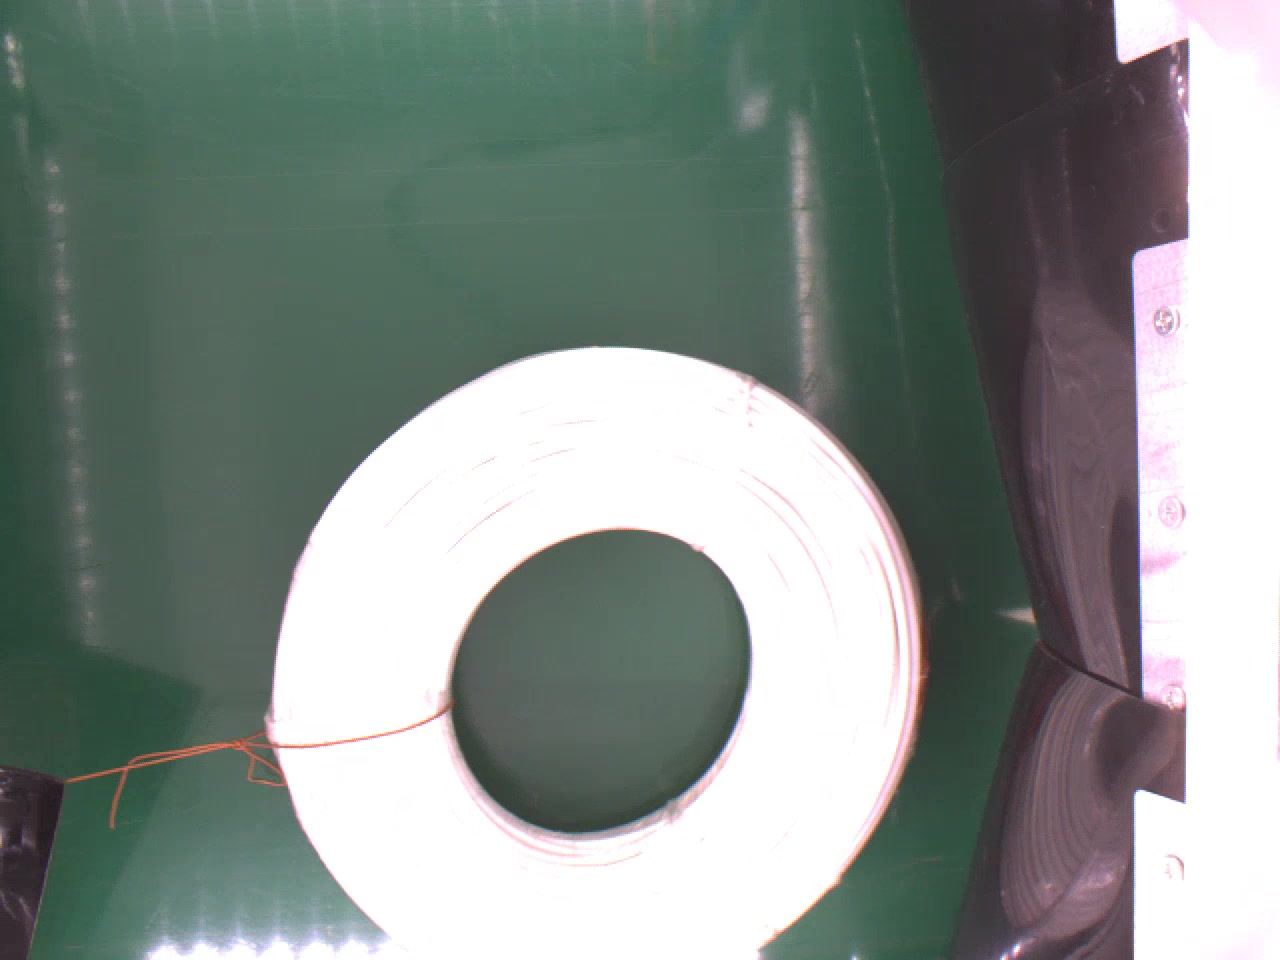white: (262, 339, 938, 960)
